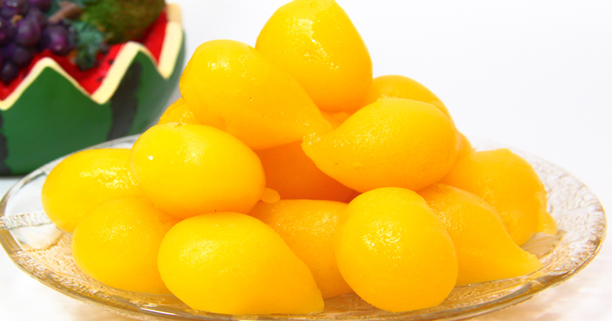tongyod: (159, 211, 326, 316), (305, 99, 469, 194), (184, 38, 321, 148), (334, 192, 461, 309), (126, 118, 266, 212), (254, 1, 379, 106), (395, 187, 545, 273), (62, 208, 192, 291), (38, 150, 160, 222)
